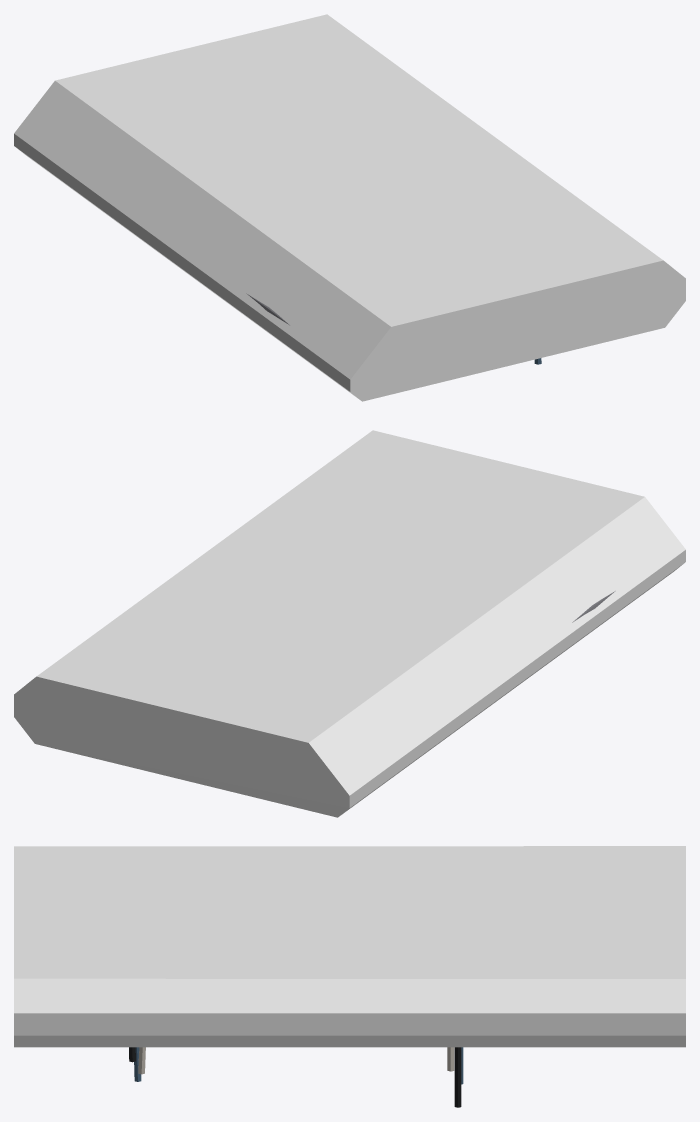
Rendered from SM_Bld_Ceiling_Pipes_Straight_Broken_01.fbx.
3 views of the same model, one above another, from view 1: azimuth 30°, elevation 25°; view 2: azimuth 150°, elevation 25°; view 3: azimuth 270°, elevation 25° (orthographic).
Visible parts, largest first — view 1: SM_Bld_Ceiling_Pipes_Straight_Broken_01_ConvexHulls; view 2: SM_Bld_Ceiling_Pipes_Straight_Broken_01_ConvexHulls; view 3: SM_Bld_Ceiling_Pipes_Straight_Broken_01_ConvexHulls, SM_Bld_Ceiling_Pipes_Straight_Broken_01_LOD0.
Boxes of the visible parts, x1,y1,x2,y2 form: SM_Bld_Ceiling_Pipes_Straight_Broken_01_ConvexHulls: (14, 14, 685, 401); SM_Bld_Ceiling_Pipes_Straight_Broken_01_ConvexHulls: (14, 430, 685, 817); SM_Bld_Ceiling_Pipes_Straight_Broken_01_ConvexHulls: (14, 846, 685, 1047); SM_Bld_Ceiling_Pipes_Straight_Broken_01_LOD0: (129, 1047, 463, 1107).
Size of the model in its own units: 500 by 288 by 130.
1 material, 1 textured.
